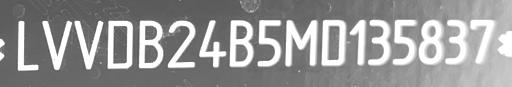letter: (280, 18, 320, 73), (102, 17, 136, 74), (38, 17, 72, 70), (165, 17, 197, 70), (12, 18, 42, 73), (136, 17, 164, 74), (198, 18, 226, 73), (468, 17, 498, 68), (252, 20, 282, 71), (391, 17, 419, 70), (320, 17, 348, 70), (226, 19, 254, 72), (74, 18, 102, 69), (418, 17, 444, 68), (444, 17, 470, 68), (367, 18, 391, 69), (348, 16, 368, 71)
